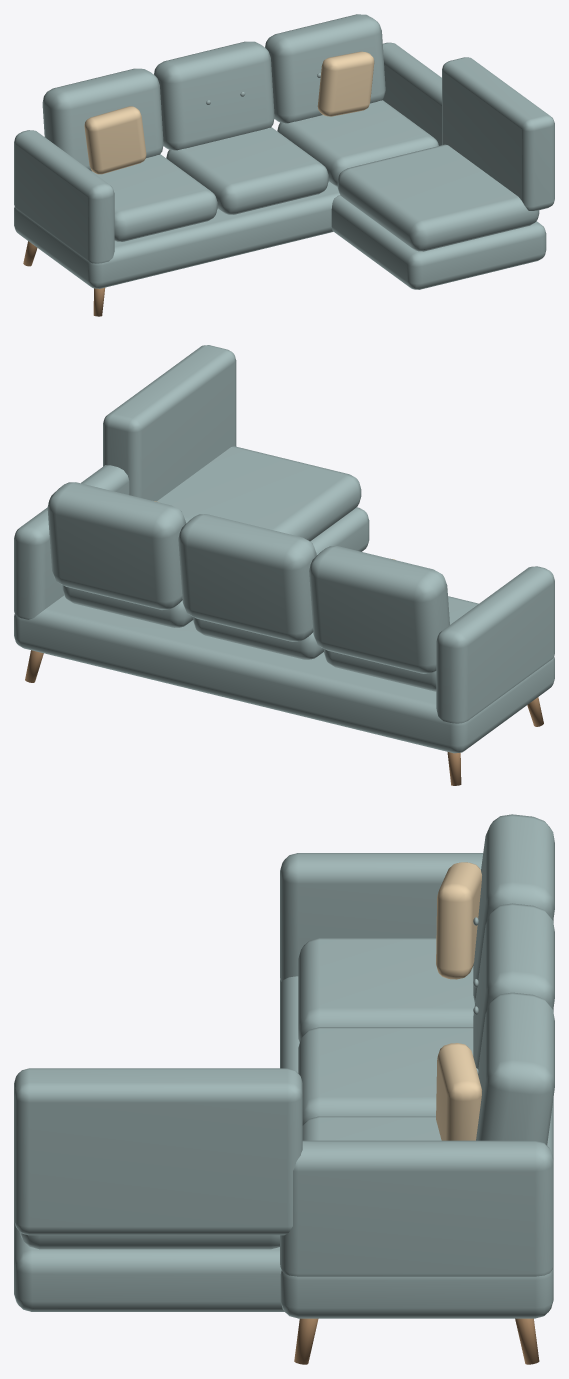
Rendered from atelier-corner-sofa.glb.
3 views of the same model, one above another, from view 1: azimuth 30°, elevation 25°; view 2: azimuth 150°, elevation 25°; view 3: azimuth 270°, elevation 25° (orthographic). The views are drawn at different scales.
Parts seen in each view (by area): view 1: fabric.006, accent.006, legs.006; view 2: fabric.006, legs.006; view 3: fabric.006, accent.006, legs.006.
Part boxes in pixels (x1,y1,x2,y2): fabric.006: (14,14,554,289); accent.006: (84,51,374,174); legs.006: (23,241,105,316); fabric.006: (14,345,554,753); legs.006: (25,650,543,785); fabric.006: (14,814,554,1318); accent.006: (436,862,481,1140); legs.006: (294,1318,539,1364).
Bounding box in the file's own units: 2.4 × 1.03 × 1.78.
